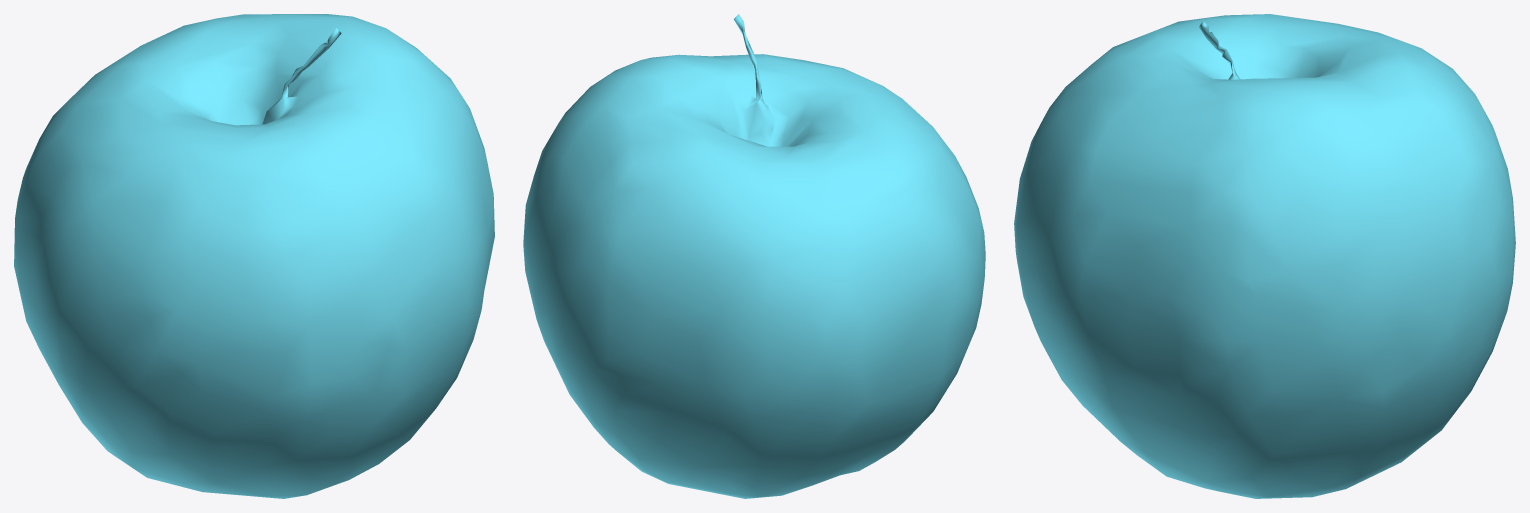
File: nr-apple-4.glb
The picture shows the model from 3 angles, left to right: view 1: azimuth 30°, elevation 25°; view 2: azimuth 150°, elevation 25°; view 3: azimuth 270°, elevation 25°; orthographic projection. The views are drawn at different scales.
Parts seen in each view (by area): view 1: nr-apple-4-0; view 2: nr-apple-4-0; view 3: nr-apple-4-0.
Part boxes in pixels (<box>): nr-apple-4-0: <box>14,14,494,498</box>; nr-apple-4-0: <box>523,14,985,498</box>; nr-apple-4-0: <box>1014,14,1515,498</box>.
Bounding box in the file's own units: 1 × 0.989 × 0.9836.
